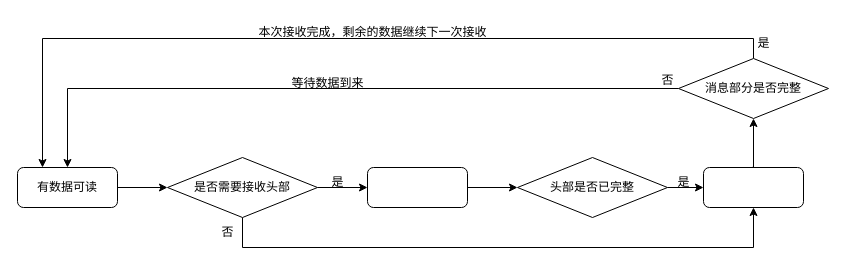
This 846x273 diagram has some shape labels left out. Here are the shapes that lost their labels. From the top down, the centre of each, then its label:
At pixel 417 187: "接收头部并从缓冲区移除".
At pixel 753 187: "读取消息部分".
